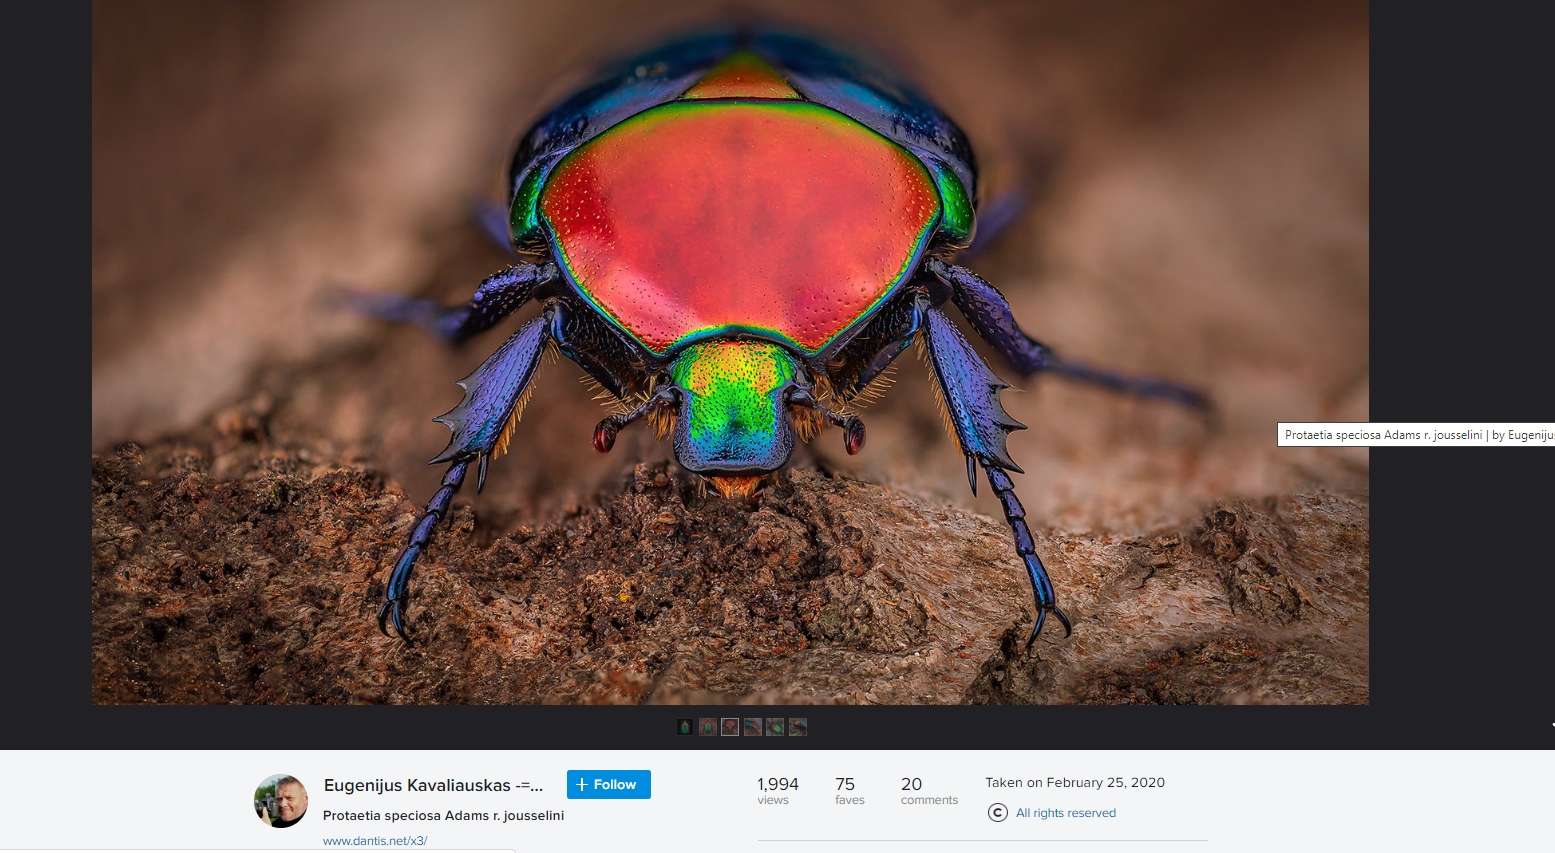Protaetia_speciosa_jousselini: (342, 6, 1099, 691)
